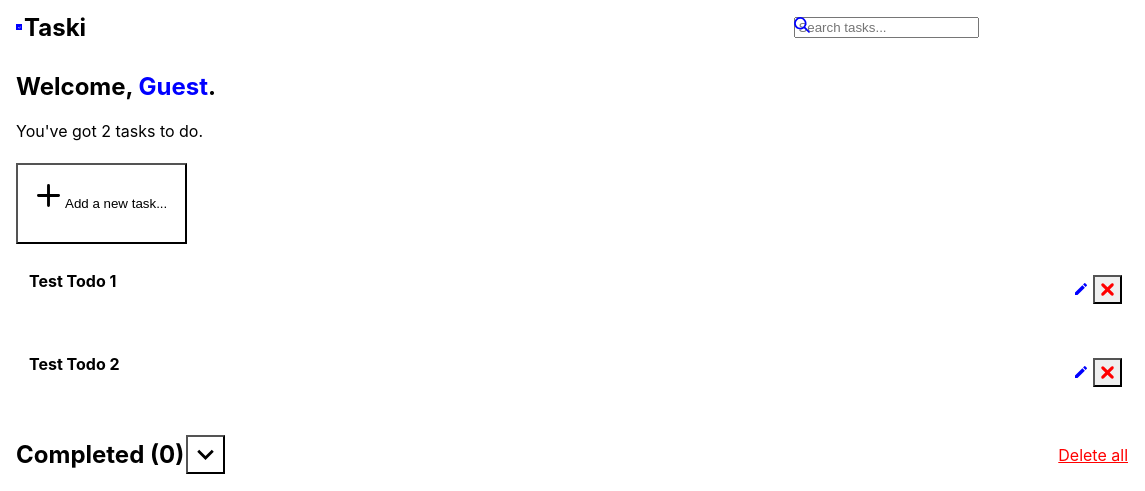
Test: App Component › displays and filters tasks based on search query
Step 1. Type "Test Todo 1" into the field with placeholder "Search tasks..." → (887, 27), box [794,17,979,38]
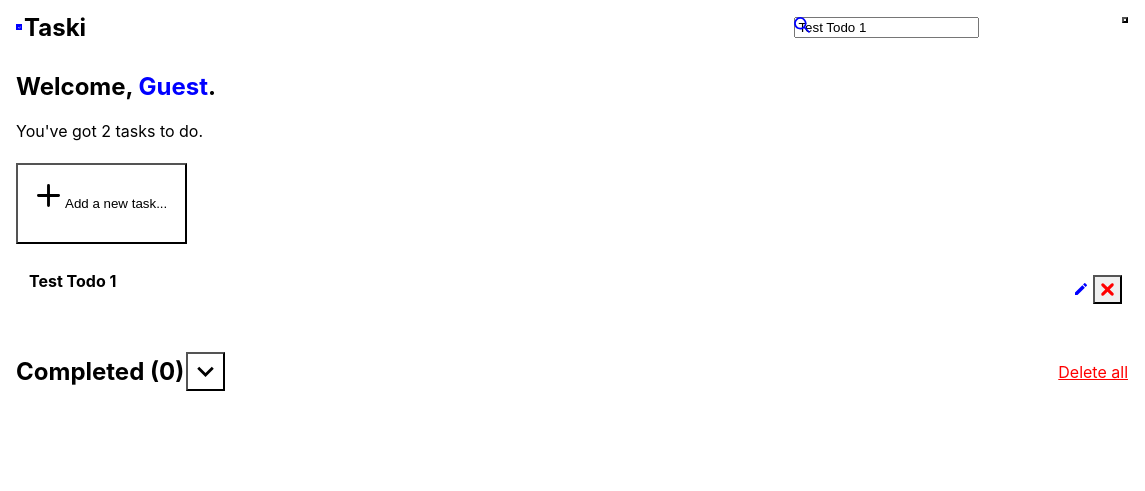
Expected: the text "Test Todo 1" is shown, [29,271,116,291]
Now the button "Test Todo 2" is gone
